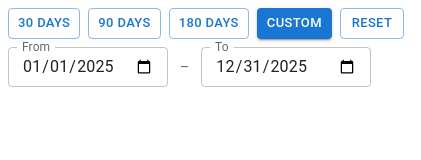
Test case: DateRangeFilter inverted range › drops the held range when a quick range is chosen
Type "2026-01-15" into the date field labelled "From" at (88, 67), box top-left (8, 47), bottom-right (168, 87)
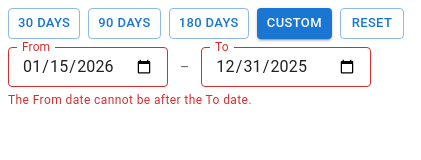
Click the button "30 days" at (44, 23), box top-left (8, 8), bottom-right (80, 39)
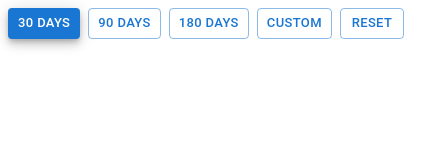
Click the button "Custom" at (294, 23), box top-left (257, 8), bottom-right (332, 39)
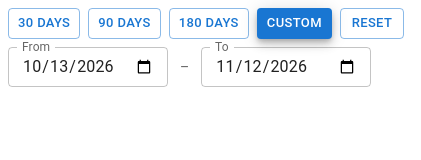
Expected: the message "The From date cannot be after the To date." is not shown
Result: the date field labelled "From" is not marked as invalid at top-left (8, 47), bottom-right (168, 87)
